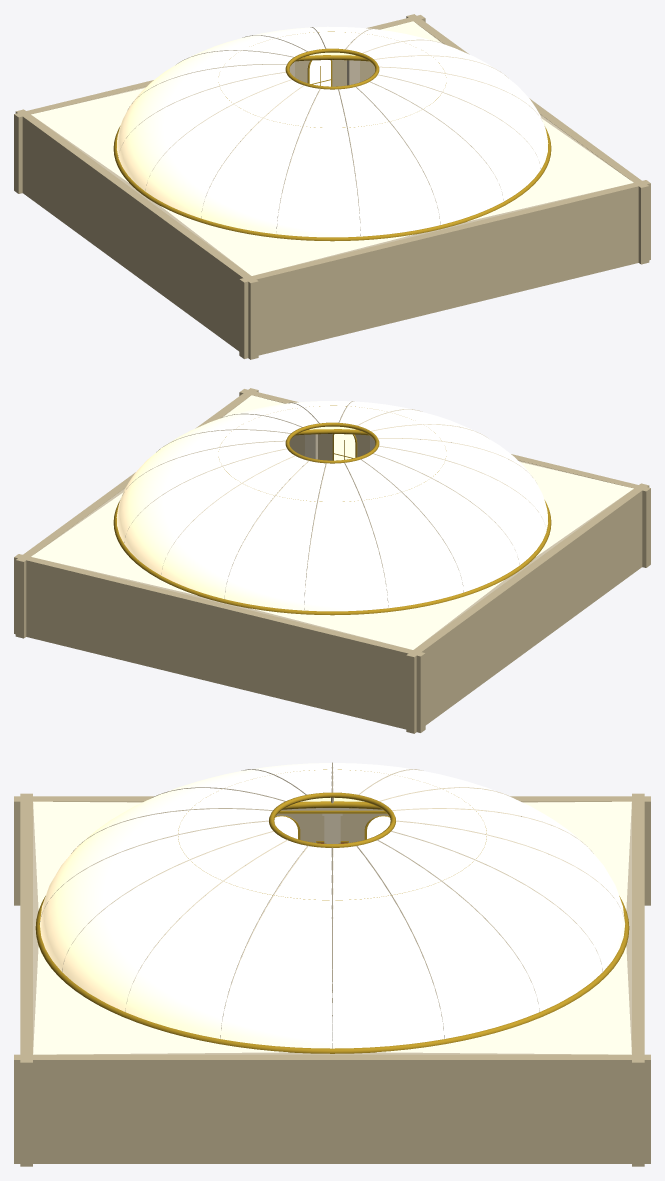
The model's file is entity.glb.
The picture shows the model from 3 angles, top to bottom: view 1: azimuth 30°, elevation 25°; view 2: azimuth 150°, elevation 25°; view 3: azimuth 270°, elevation 25°; orthographic projection. The views are drawn at different scales.
Parts seen in each view (by area): view 1: dome, wall, ceilcorner, base, cornice2, wpane; view 2: dome, wall, ceilcorner, base, cornice2, wpane; view 3: dome, wall, ceilcorner, base, cornice2, wpane.
Part boxes in pixels (x1,y1,x2,y2): dome: (117,26,548,237); wall: (14,14,650,359); ceilcorner: (31,21,633,275); base: (36,27,625,273); cornice2: (113,31,551,241); wpane: (309,60,330,86); dome: (116,400,547,611); wall: (14,388,650,733); ceilcorner: (31,395,633,649); base: (39,401,628,647); cornice2: (113,405,551,615); wpane: (334,434,355,460); dome: (40,763,624,1048); wall: (14,793,650,1166); ceilcorner: (33,801,631,1054); base: (33,762,631,1054); cornice2: (35,769,629,1053); wpane: (274,816,390,838).
Bounding box in the file's own units: 50 × 18.71 × 50.
